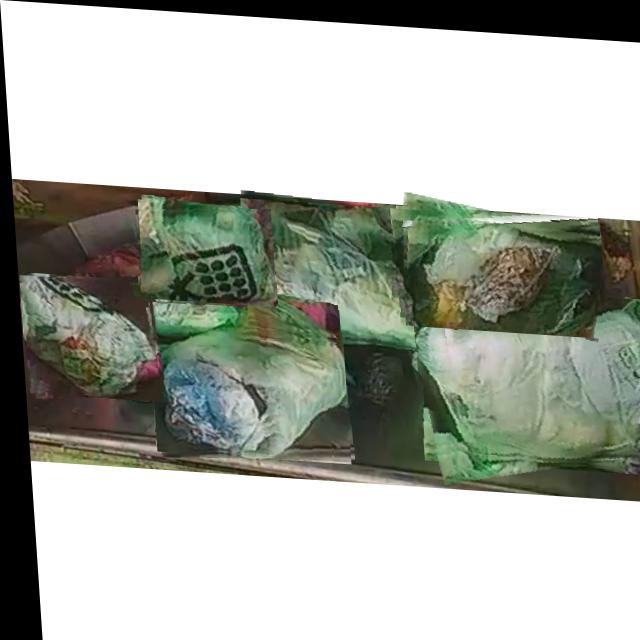general_trashbag: (411, 290, 640, 453), (239, 199, 440, 343), (146, 303, 340, 452), (399, 208, 599, 328), (15, 276, 151, 394), (137, 205, 270, 299)
